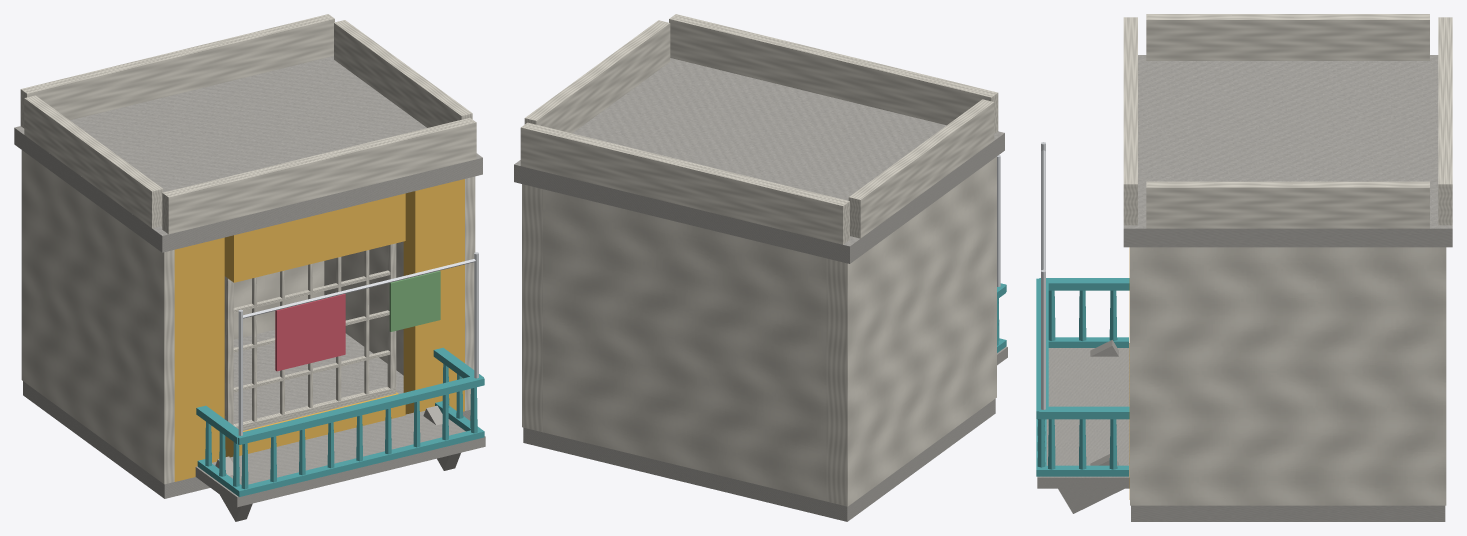
Rendered from balcony-jali.glb.
The picture shows the model from 3 angles, left to right: view 1: azimuth 30°, elevation 25°; view 2: azimuth 150°, elevation 25°; view 3: azimuth 270°, elevation 25°; orthographic projection. The views are drawn at different scales.
Visible parts, largest first — view 1: balcony-bay-with-jali-screen-plaster, balcony-bay-with-jali-screen-stone, balcony-bay-with-jali-screen-saffron, balcony-bay-with-jali-screen-teal, balcony-bay-with-jali-screen-crimson, balcony-bay-with-jali-screen-leaf, balcony-bay-with-jali-screen-steel; view 2: balcony-bay-with-jali-screen-plaster, balcony-bay-with-jali-screen-stone; view 3: balcony-bay-with-jali-screen-plaster, balcony-bay-with-jali-screen-stone, balcony-bay-with-jali-screen-teal, balcony-bay-with-jali-screen-steel.
Part boxes in pixels (box(x1,y1,x2,y2)): balcony-bay-with-jali-screen-plaster: box(20, 14, 476, 484); balcony-bay-with-jali-screen-stone: box(14, 56, 485, 521); balcony-bay-with-jali-screen-saffron: box(174, 179, 464, 481); balcony-bay-with-jali-screen-teal: box(196, 347, 484, 496); balcony-bay-with-jali-screen-crimson: box(275, 294, 345, 371); balcony-bay-with-jali-screen-leaf: box(389, 270, 440, 331); balcony-bay-with-jali-screen-steel: box(238, 252, 478, 435); balcony-bay-with-jali-screen-plaster: box(520, 14, 998, 506); balcony-bay-with-jali-screen-stone: box(514, 58, 1007, 521); balcony-bay-with-jali-screen-plaster: box(1123, 14, 1452, 505); balcony-bay-with-jali-screen-stone: box(1037, 55, 1452, 521); balcony-bay-with-jali-screen-teal: box(1036, 278, 1129, 476); balcony-bay-with-jali-screen-steel: box(1041, 142, 1045, 409).
Size of the model in its own units: 4 by 3.8 by 4.05.
Materials: 7 (2 with a texture image).
